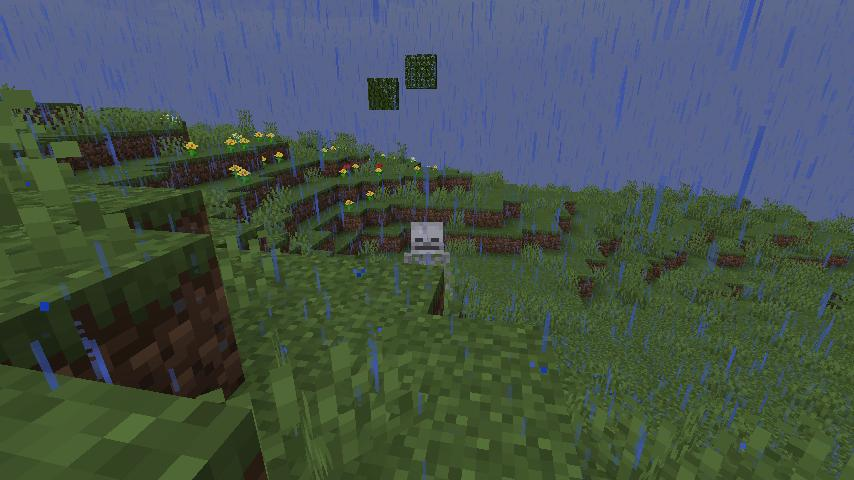skeleton: (402, 217, 452, 266)
